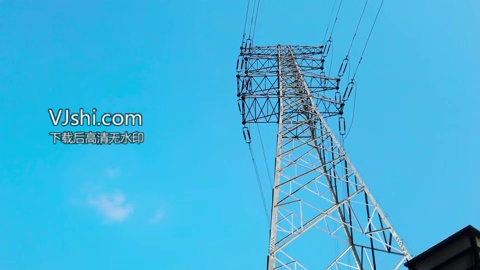tower_body: (231, 39, 415, 270)
tower_foot: (260, 192, 410, 270)
tower_head: (234, 43, 342, 81)
